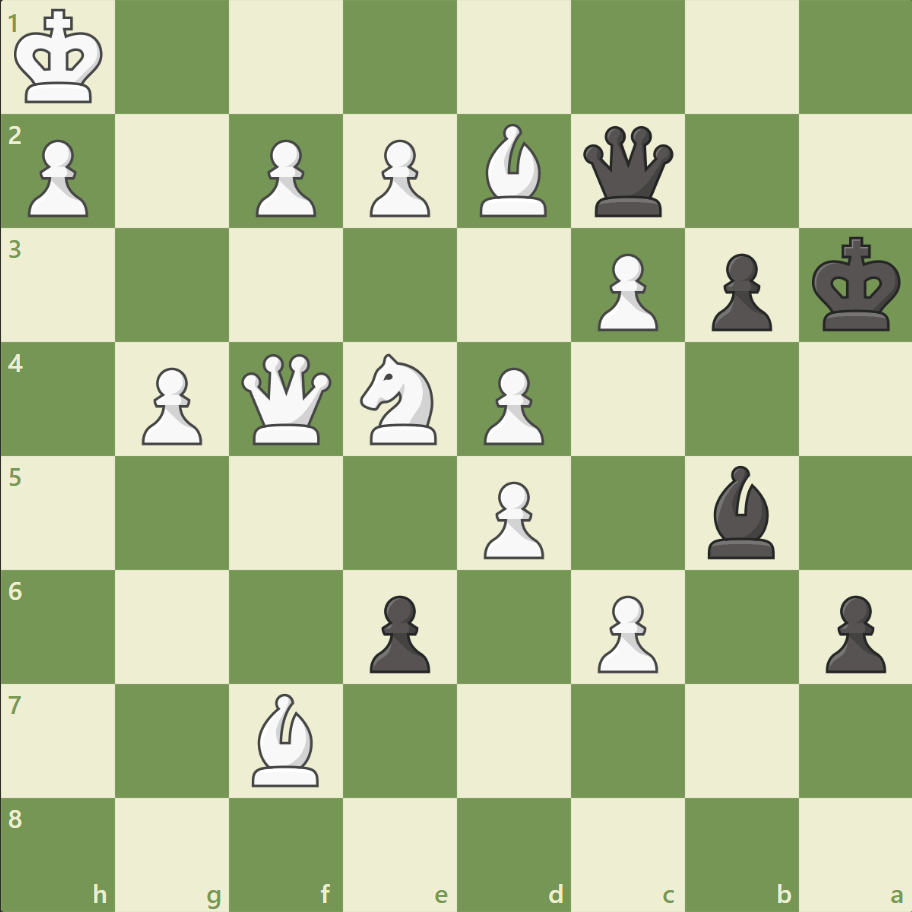B: (244, 687, 328, 790), (471, 120, 555, 222)
K: (11, 4, 111, 112)
N: (351, 348, 449, 450)
P: (474, 473, 549, 564), (474, 359, 549, 450), (133, 359, 208, 450), (247, 132, 322, 223), (20, 132, 95, 223), (588, 586, 662, 677), (588, 246, 662, 337), (361, 132, 435, 223)
Q: (237, 349, 336, 449)
b: (698, 460, 782, 563)
k: (806, 231, 906, 339)
p: (701, 246, 776, 337), (815, 586, 889, 677), (361, 586, 435, 677)
q: (578, 122, 677, 222)
